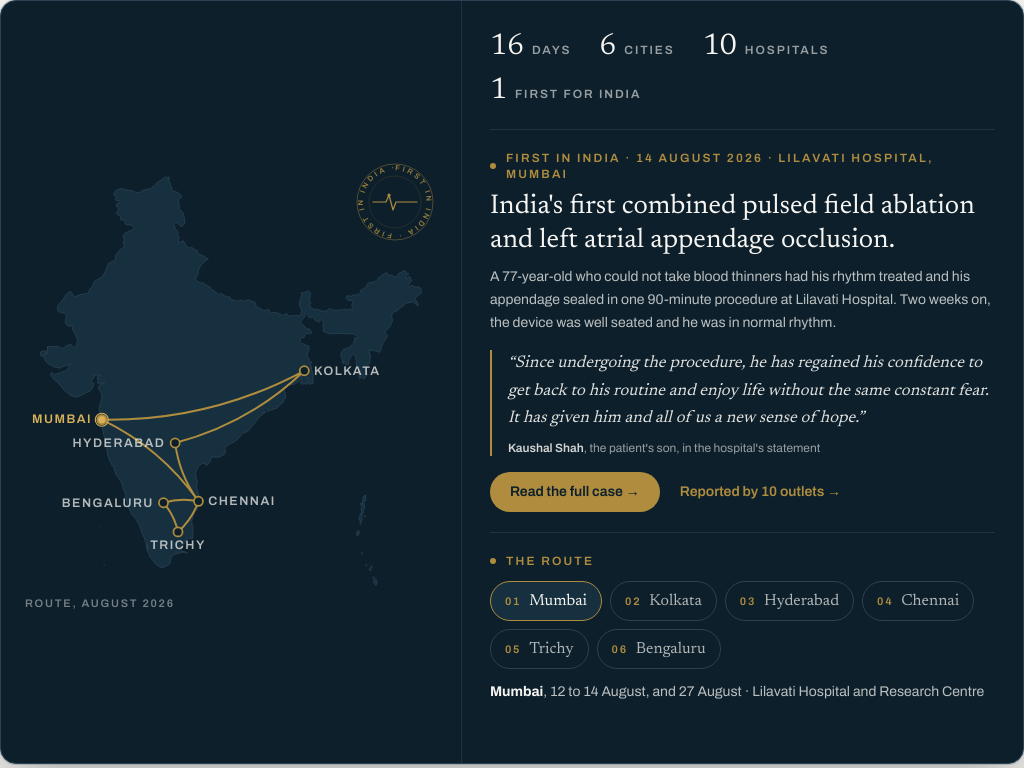
Test: choosing Hyderabad shows Sri Sri and Apollo
Click the tab "03 Hyderabad": (789, 601) x1=725 y1=581 x2=854 y2=621
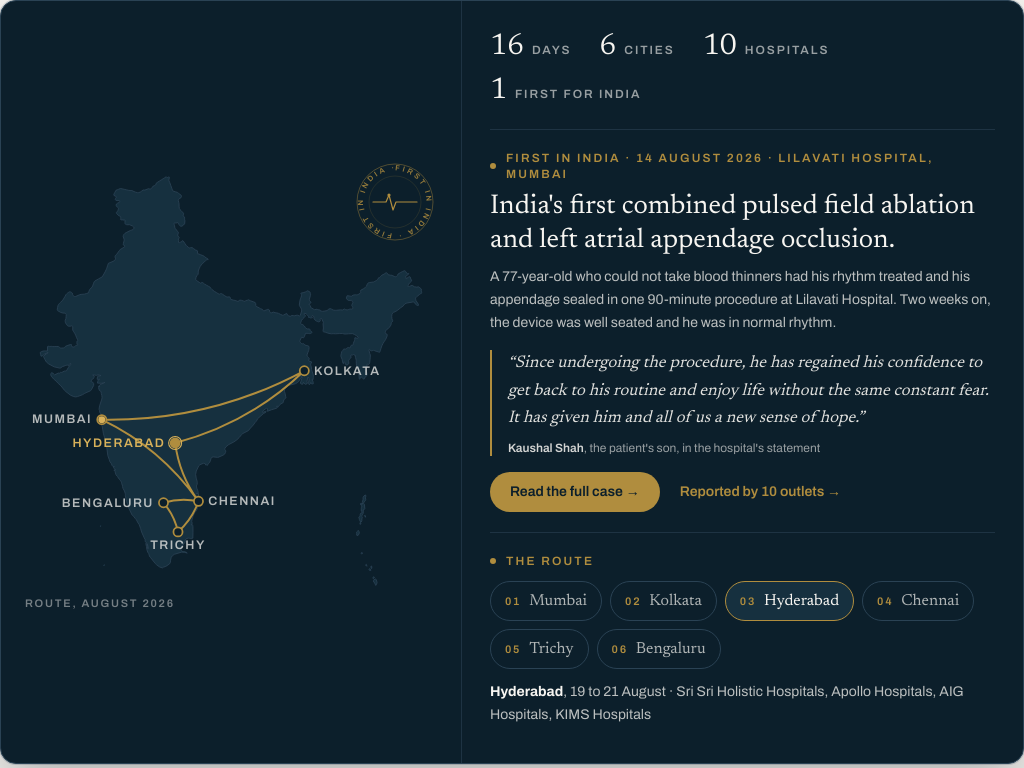
Expected: the panel shows "Sri Sri Holistic Hospitals", x1=490 y1=684 x2=964 y2=722
Expected: the panel shows "Apollo Hospitals", x1=490 y1=684 x2=964 y2=722
Expected: the panel shows "AIG Hospitals", x1=490 y1=684 x2=964 y2=722
